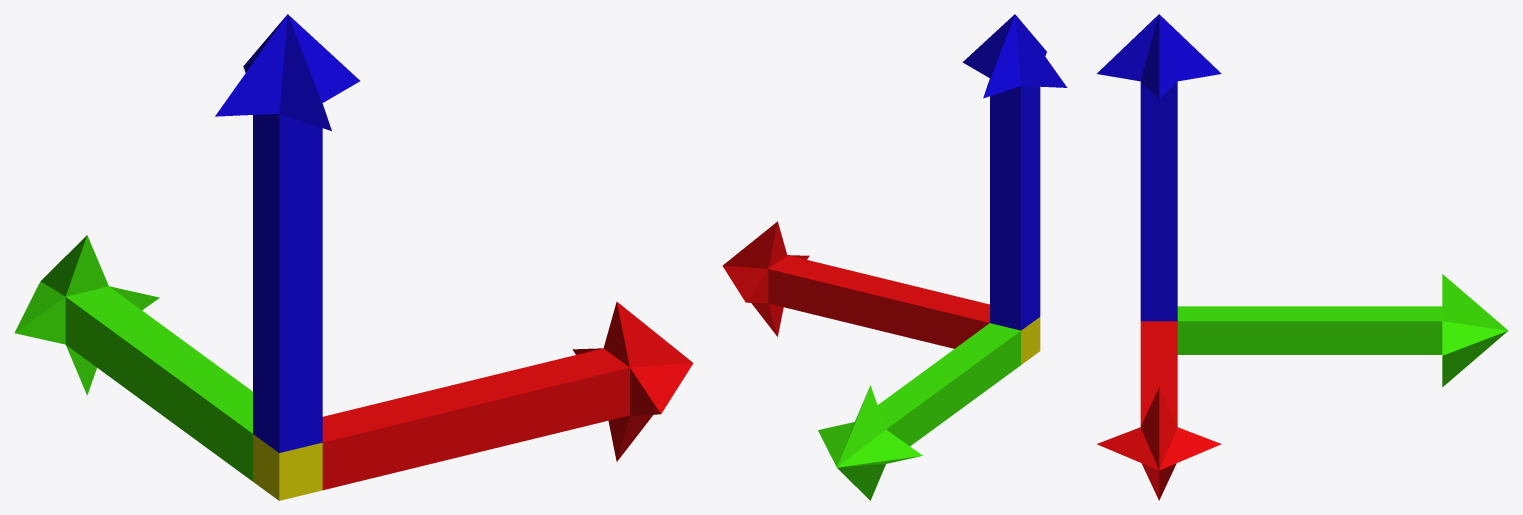
Rendered from Axis.glb.
3 renders of one model, left to right at view 1: azimuth 30°, elevation 25°; view 2: azimuth 150°, elevation 25°; view 3: azimuth 270°, elevation 25°, orthographic. The views are drawn at different scales.
Visible parts, largest first — view 1: Axis; view 2: Axis; view 3: Axis.
Boxes of the visible parts, left/top/right/bottom form: Axis: left=14, top=14, right=693, bottom=500; Axis: left=722, top=14, right=1067, bottom=500; Axis: left=1097, top=14, right=1508, bottom=500.
Bounding box in the file's own units: 4.67 × 4.93 × 4.93.
